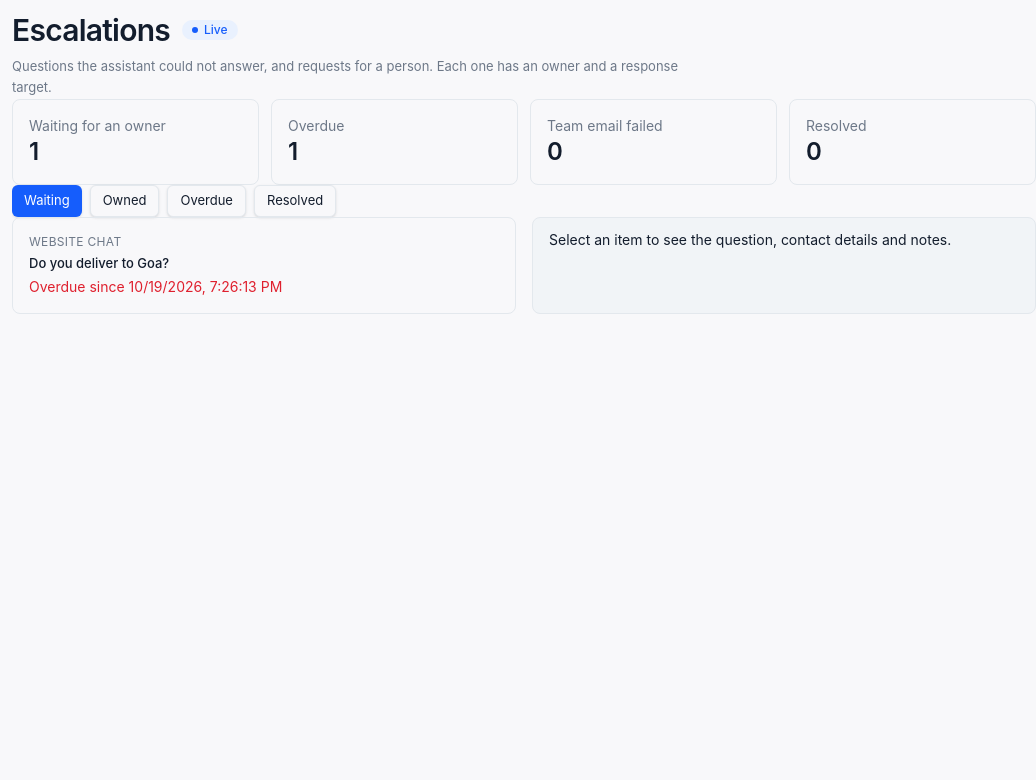
Test: EscalationsPage › tells the team plainly when no owner can be emailed
Click the button "Do you deliver to Goa".
click(75, 241)  # box [12, 217, 516, 314]
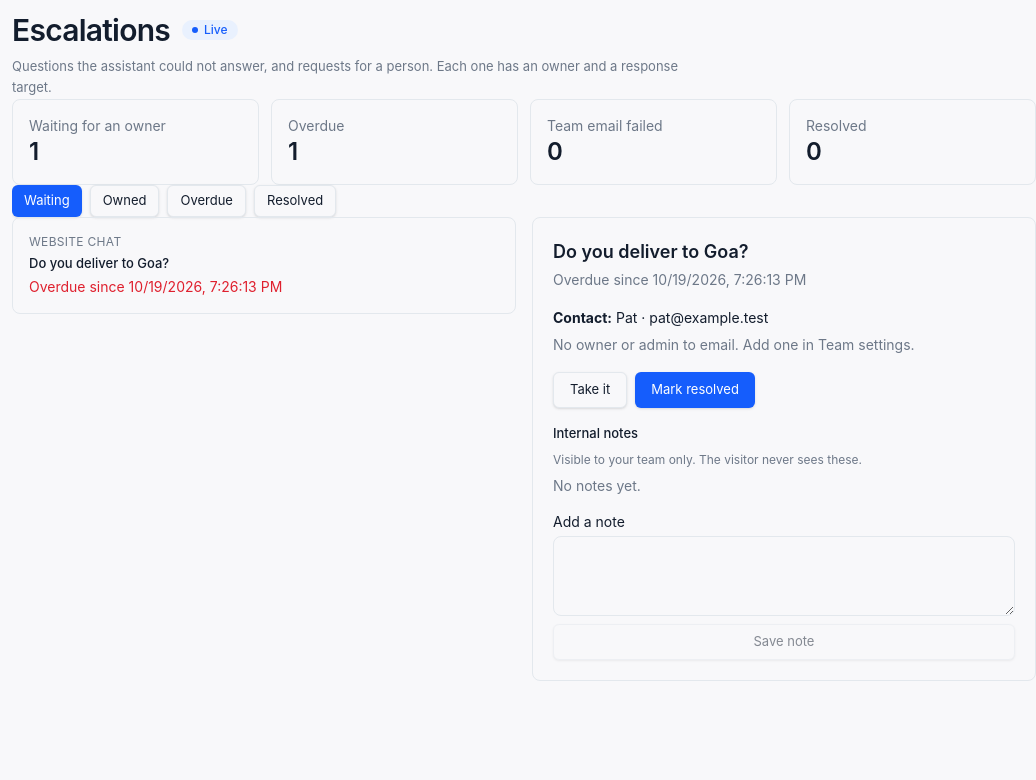
expect the text "No owner or admin to email. Add one in Team settings." is shown: met, box [553, 336, 915, 353]
